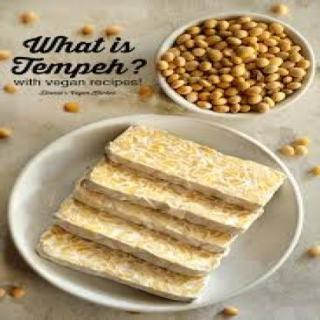Tempe: (37, 120, 287, 304)
